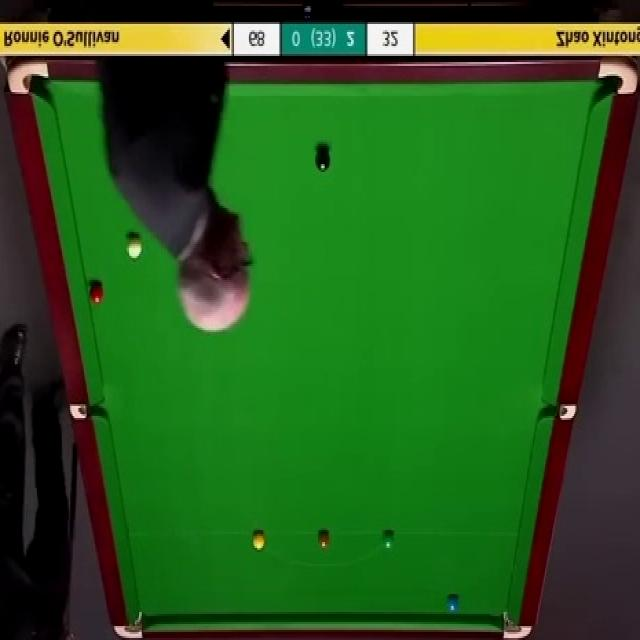black-ball: (314, 147, 331, 173)
blue-ball: (446, 596, 459, 613)
brown-ball: (316, 530, 331, 552)
green-ball: (380, 530, 395, 550)
red-ball: (88, 282, 105, 304)
white-ball: (125, 233, 142, 260)
yellow-ball: (252, 531, 265, 552)
